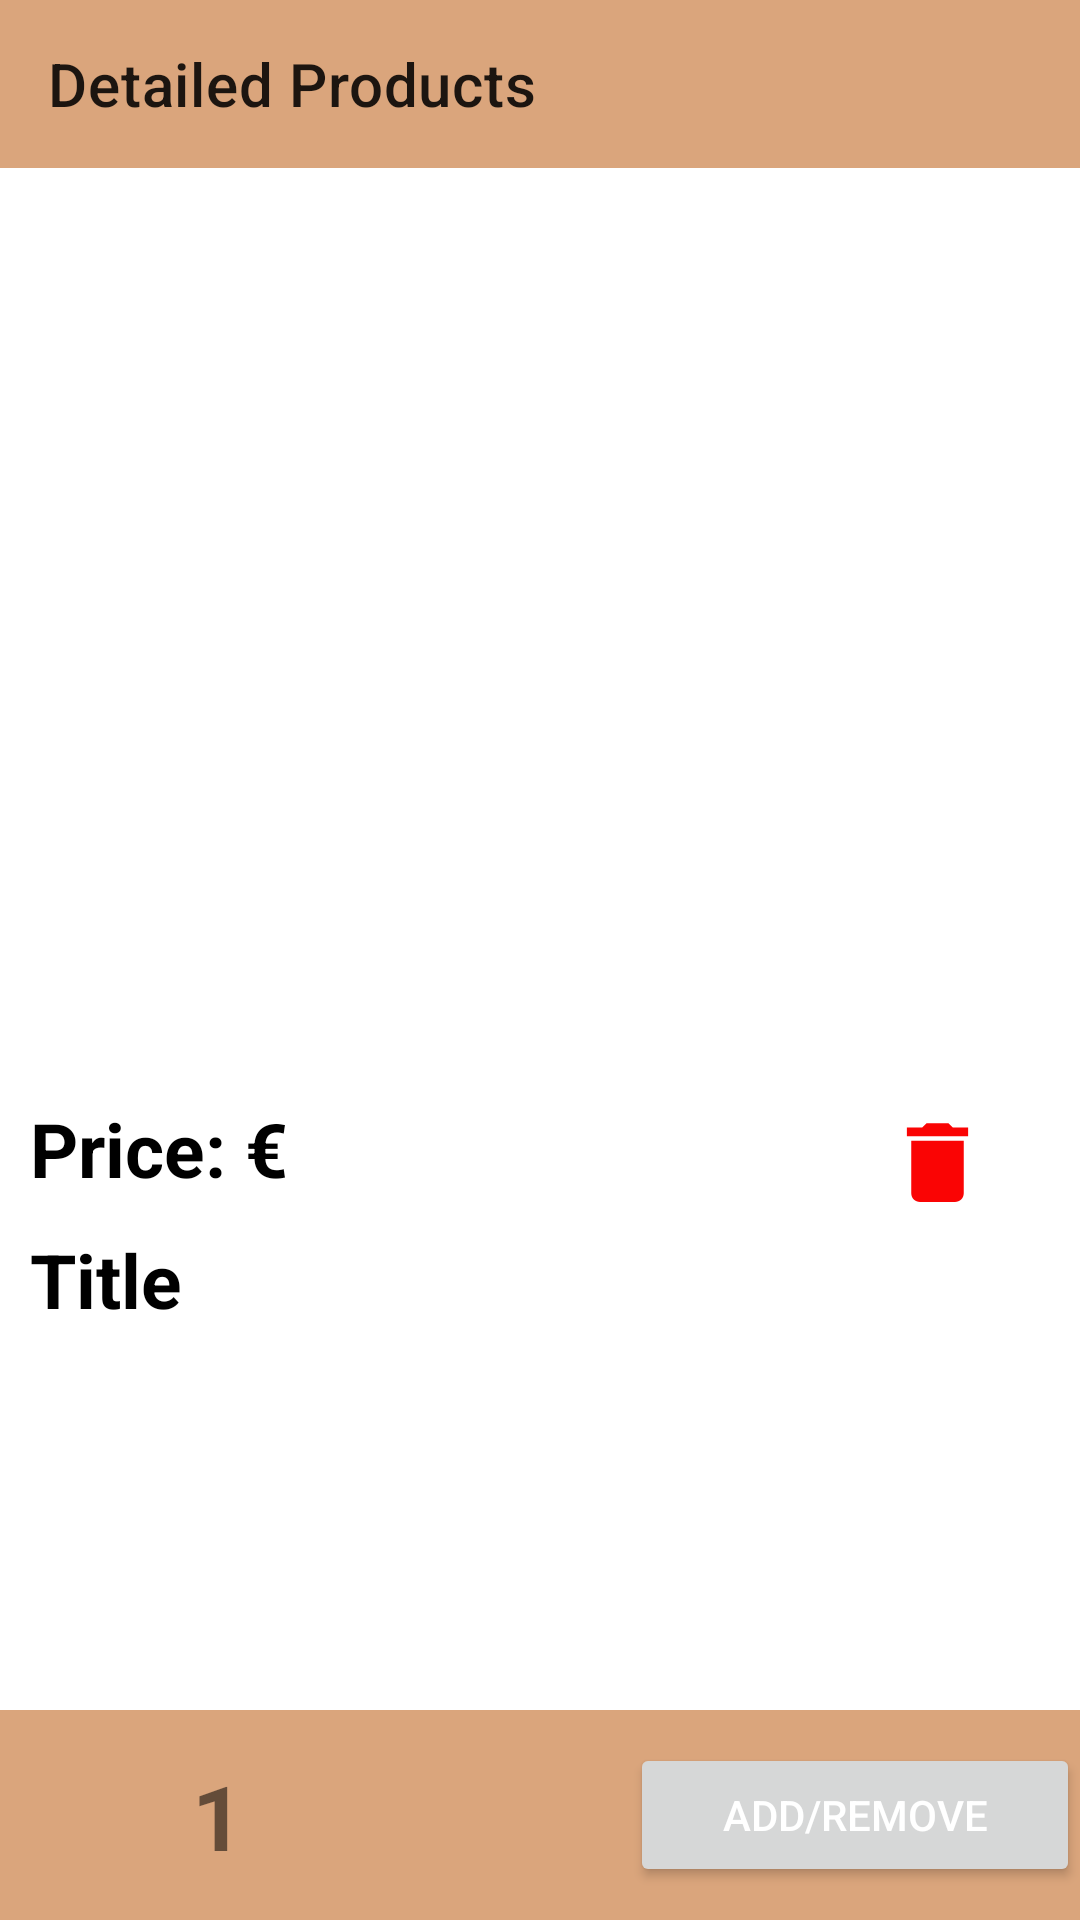

Named icons in this screenshot (1080w x 1920h) and their bounding boxes, [x1=x1, y1=y1, x2=x2, y2=y2]:
delete: [x1=906, y1=1123, x2=969, y2=1202]
